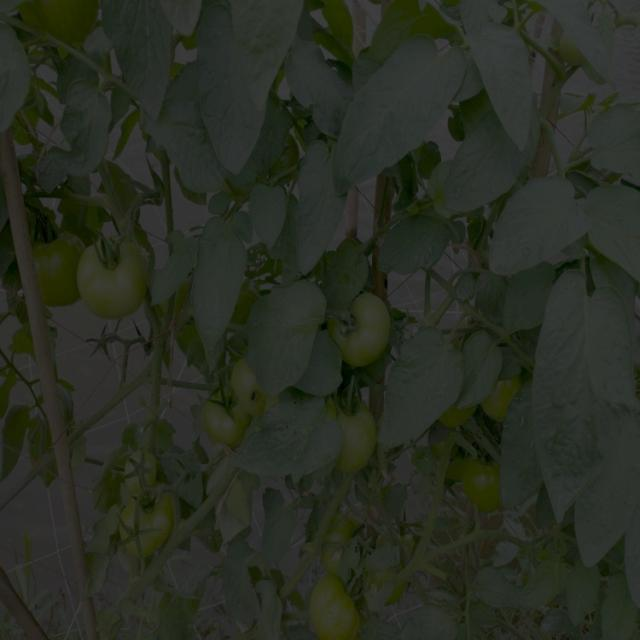tomato: (80, 232, 154, 321), (323, 292, 391, 368), (116, 490, 183, 559), (325, 393, 380, 474), (25, 1, 104, 52), (21, 232, 74, 304), (324, 510, 370, 573), (452, 456, 503, 510), (305, 582, 354, 633), (236, 362, 274, 416), (197, 390, 233, 444), (478, 382, 525, 423), (122, 444, 165, 486), (553, 32, 590, 79), (444, 410, 469, 432)
